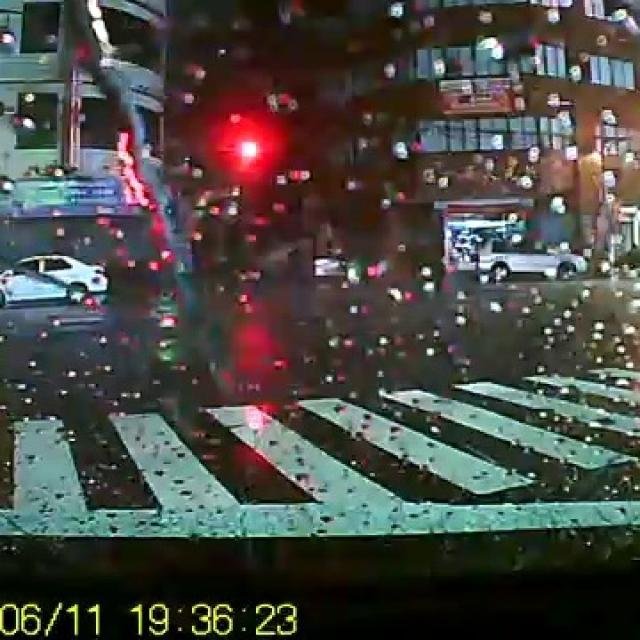Car: (0, 250, 106, 304), (471, 233, 588, 281)
